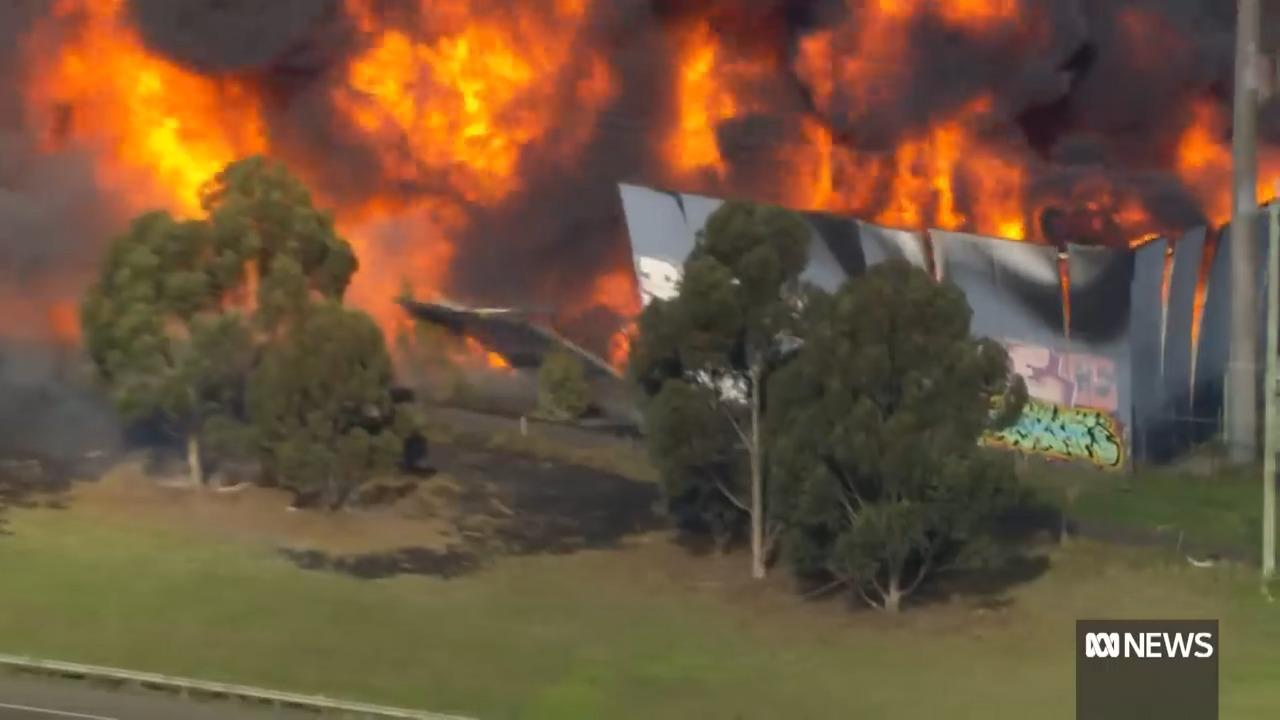fire: (2, 4, 253, 328), (347, 3, 563, 189), (791, 106, 1055, 246), (321, 217, 523, 369), (1171, 99, 1280, 216), (659, 27, 737, 175), (874, 0, 1031, 47)
